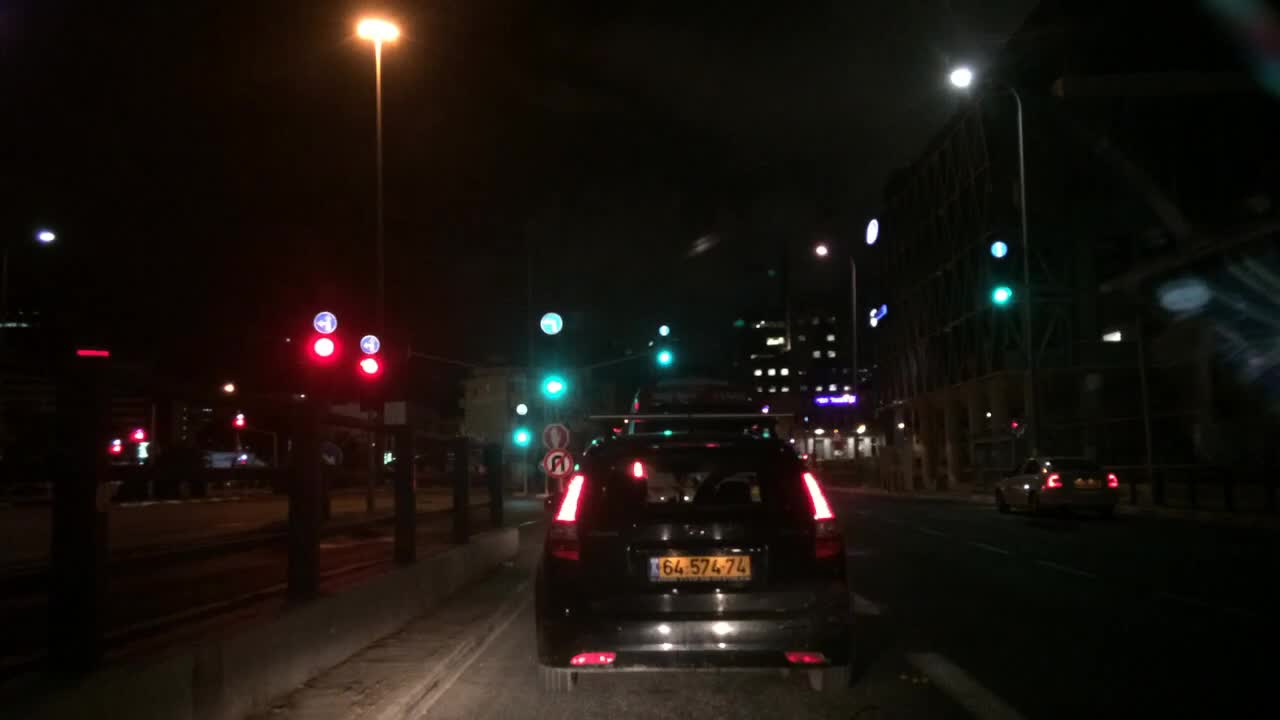car: (537, 413, 854, 691), (996, 458, 1121, 520)
traffic light: (359, 356, 384, 415), (309, 333, 335, 380), (990, 262, 1013, 309), (542, 350, 564, 396), (656, 338, 676, 368), (511, 426, 532, 446), (131, 429, 145, 442), (108, 444, 122, 455), (235, 418, 246, 428)
traffic sign: (545, 449, 571, 479), (542, 424, 570, 451), (322, 441, 342, 473), (541, 312, 562, 336), (313, 311, 337, 331), (987, 235, 1007, 259), (360, 334, 381, 354), (654, 323, 671, 336)
